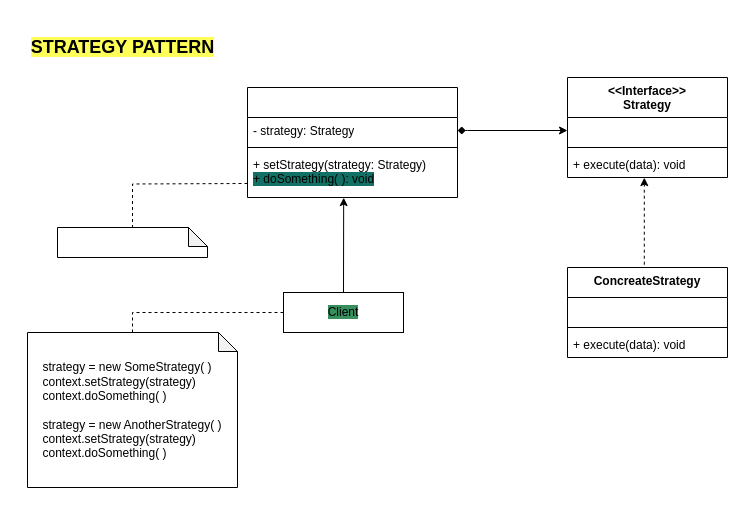
The diagram is 745 pixels wide and 505 high, and some of its shapes have lost their labels. Here are the shapes that lost their labels. From the top down, the box of each, then its label:
(246, 86, 458, 198): Context
(56, 226, 208, 258): strategy.execute( )
